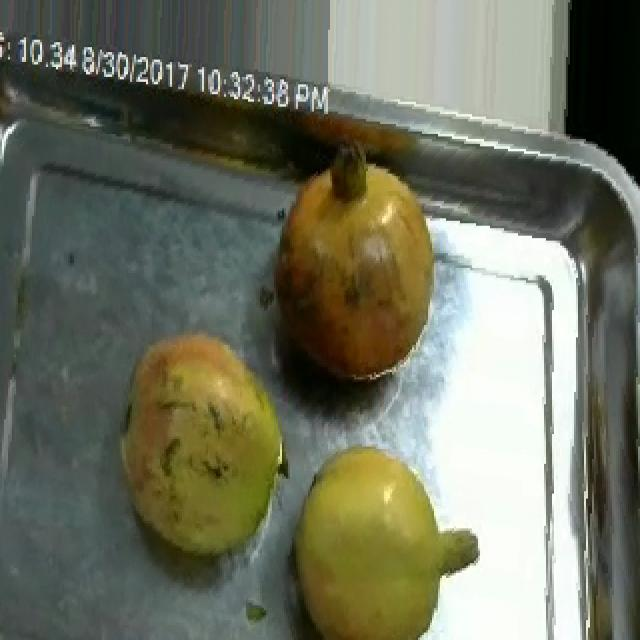fruit: (94, 308, 314, 588), (244, 131, 464, 402), (266, 422, 496, 638)
